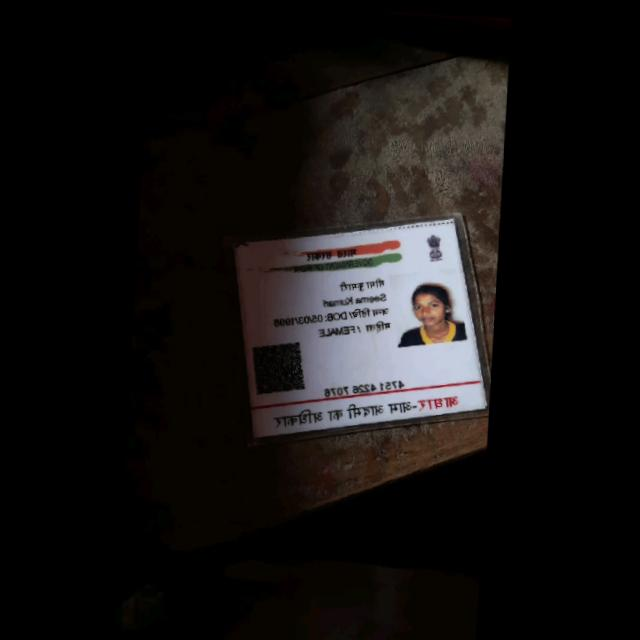aadhaar: (215, 189, 498, 455)
